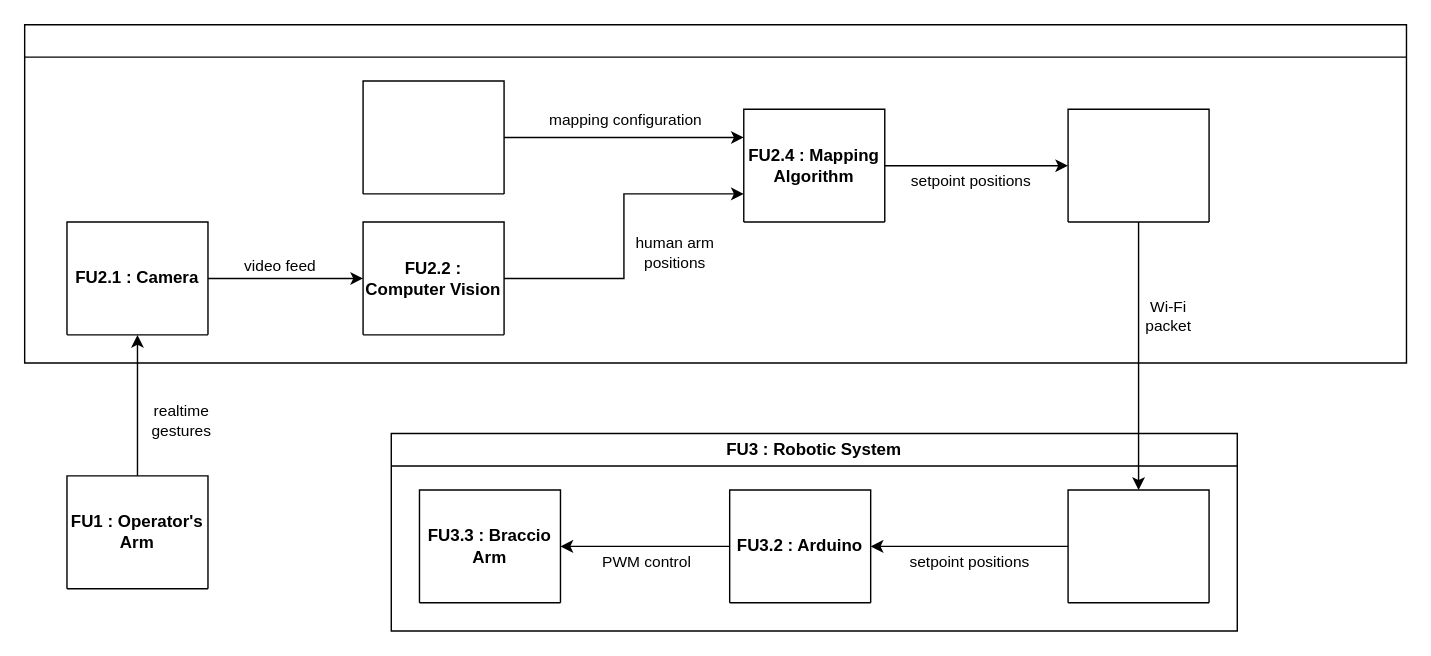
Some shapes in this 1431 by 656 pixel diagram are drawn without their labels. The shapes that lost their labels are listed below. From the top down, each one's box as (x1, y1, x2, y2) in pixels, then its label:
(362, 80, 504, 194): FU2.3 : Mapping Rules
(1067, 108, 1209, 222): FU2.5 : Network Manager
(23, 23, 1406, 363): FU2 : Laptop
(1067, 489, 1209, 603): FU3.1 : ESP32
